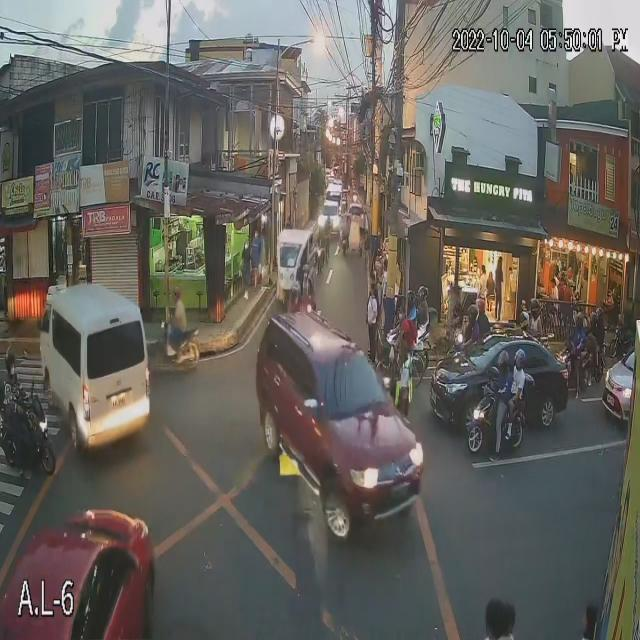helmet: (0, 347, 20, 379), (525, 293, 544, 323), (498, 351, 511, 382), (573, 311, 589, 333), (404, 287, 416, 315), (514, 346, 526, 374), (417, 281, 430, 306), (476, 294, 489, 316), (592, 305, 604, 323), (519, 312, 530, 328), (468, 303, 476, 324)
motorcycle: (0, 393, 62, 475), (465, 391, 532, 463), (558, 346, 589, 391)
rider: (487, 349, 510, 423), (0, 348, 19, 419), (567, 314, 589, 367), (510, 350, 529, 411), (529, 286, 548, 343), (400, 283, 421, 334), (417, 272, 432, 343), (478, 292, 495, 342), (593, 297, 608, 351), (461, 301, 481, 339), (517, 299, 529, 335)
